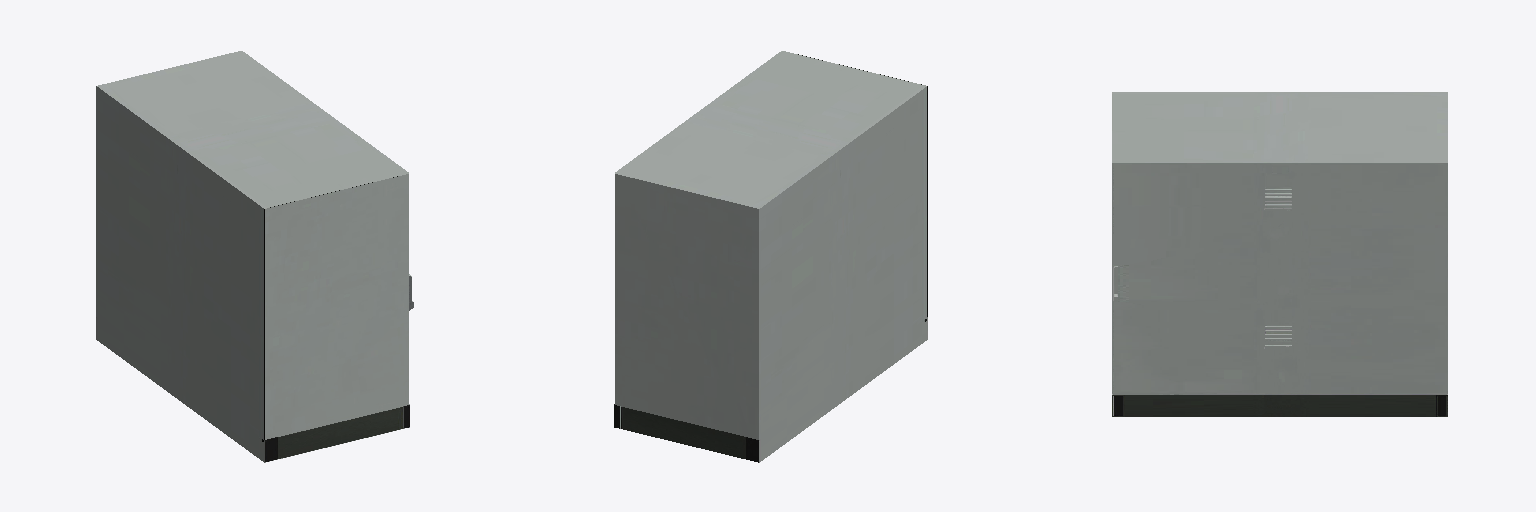
3 renders of one model, left to right at view 1: azimuth 30°, elevation 25°; view 2: azimuth 150°, elevation 25°; view 3: azimuth 270°, elevation 25°, orthographic.
Visible parts, largest first — view 1: set6_Model; view 2: set6_Model; view 3: set6_Model.
Boxes of the visible parts, x1=… form: set6_Model: x1=96, y1=51, x2=413, y2=462; set6_Model: x1=614, y1=51, x2=927, y2=462; set6_Model: x1=1112, y1=92, x2=1447, y2=416.
Size of the model in its own units: 1.25 by 2 by 2.4.
1 materials, 1 textured.